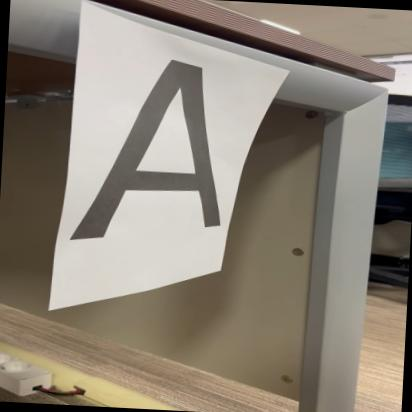seat: (45, 44, 254, 258)
